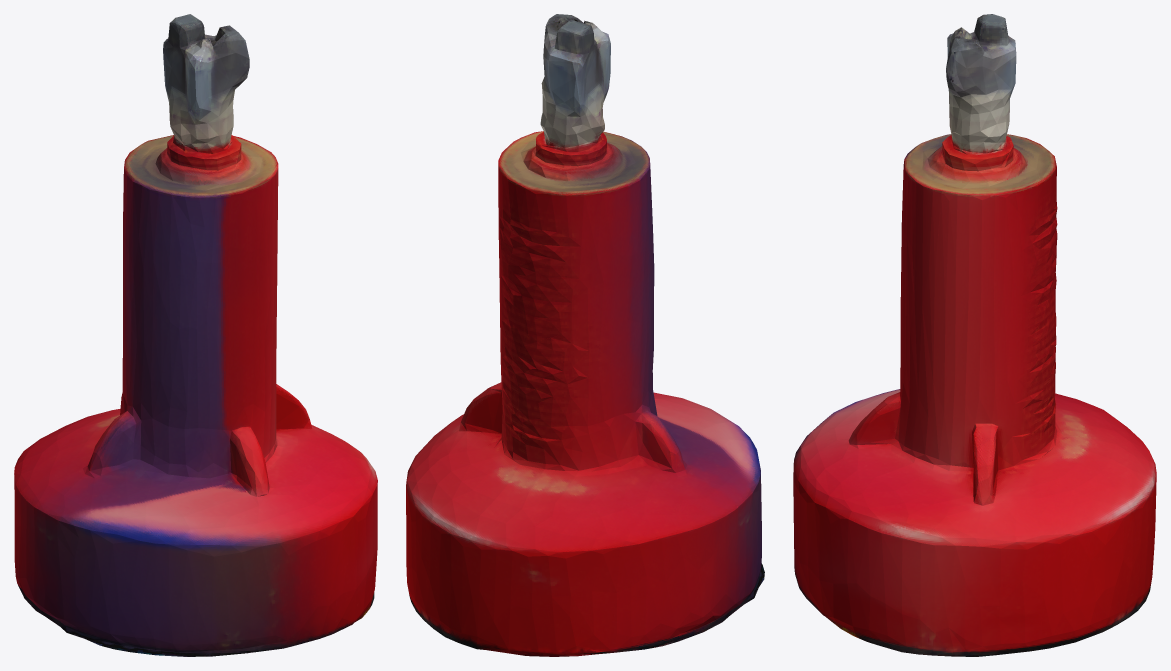
File: kırmızı_duba82.glb
3 views of the same model, side by side, from view 1: azimuth 30°, elevation 25°; view 2: azimuth 150°, elevation 25°; view 3: azimuth 270°, elevation 25° (orthographic).
Parts seen in each view (by area): view 1: world; view 2: world; view 3: world.
Part boxes in pixels (x1,y1,x2,y2): world: (14, 14, 377, 656); world: (406, 14, 764, 656); world: (793, 14, 1156, 656).
Bounding box in the file's own units: 0.2997 × 0.5271 × 0.3073.
Materials: 1 (1 with a texture image).
